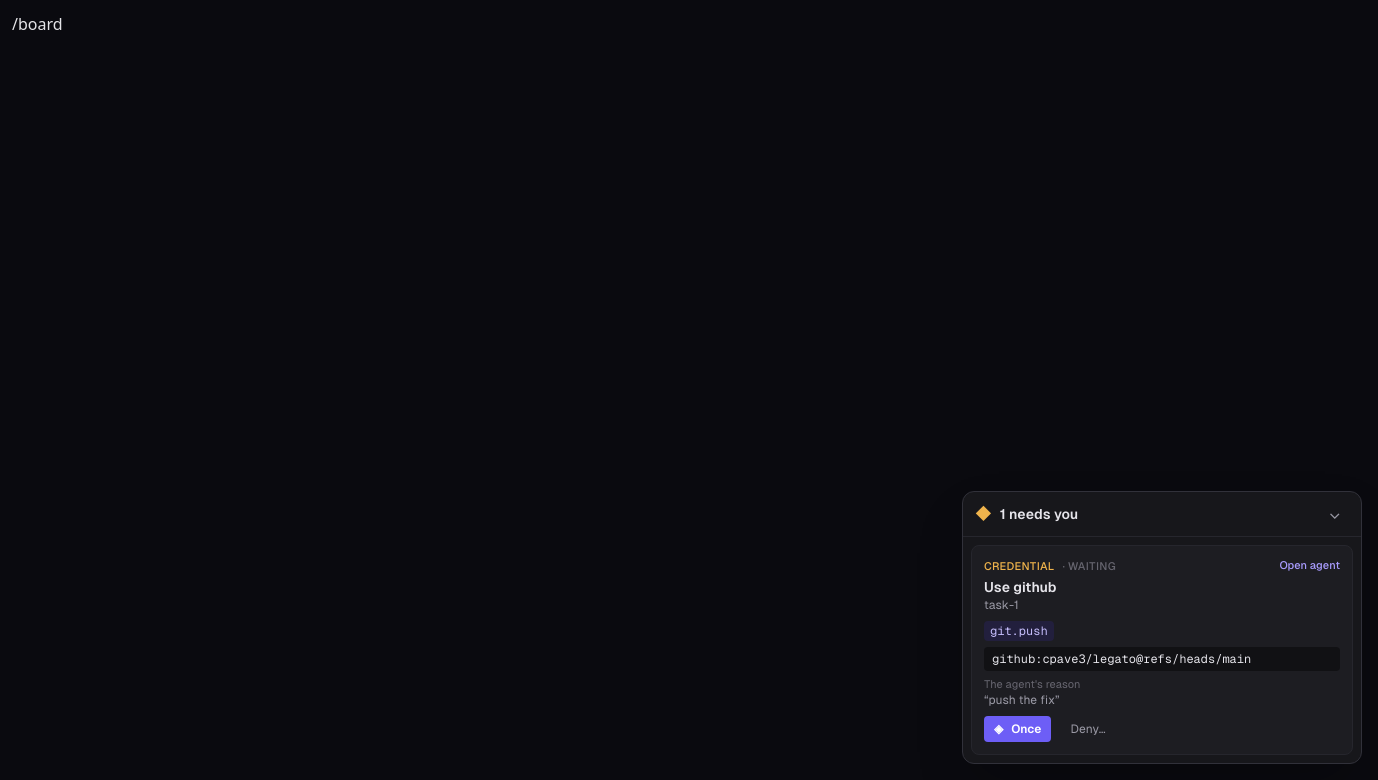
Scenario: ApprovalTray › an approval that needs a signature › says why when the passkey does not sign
This screenshot has width=1378, height=780.
Click the button with aria-label "Sign with passkey: Once": click(1018, 729) [984,716,1052,742]
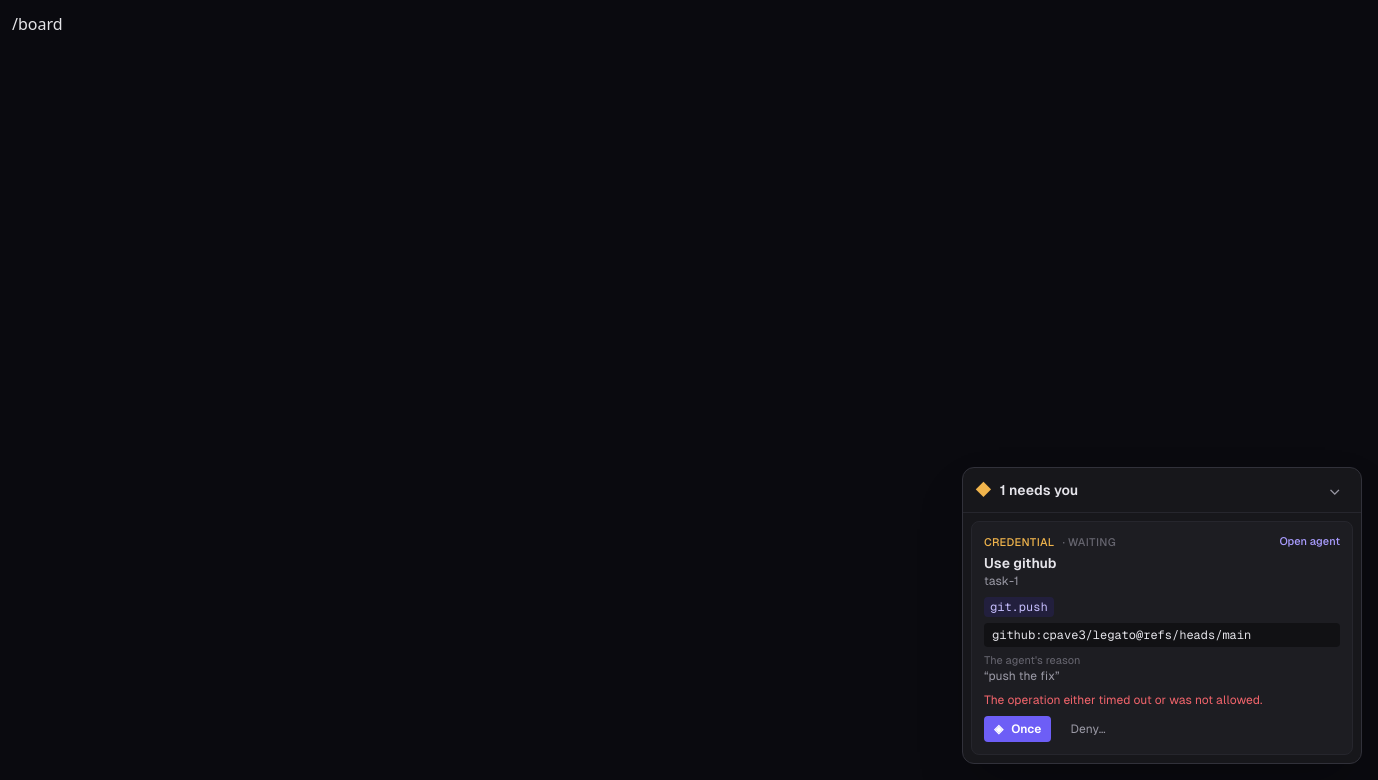
Check: the message "The operation either timed out or was not allowed." is shown, box [984,693,1262,707]
